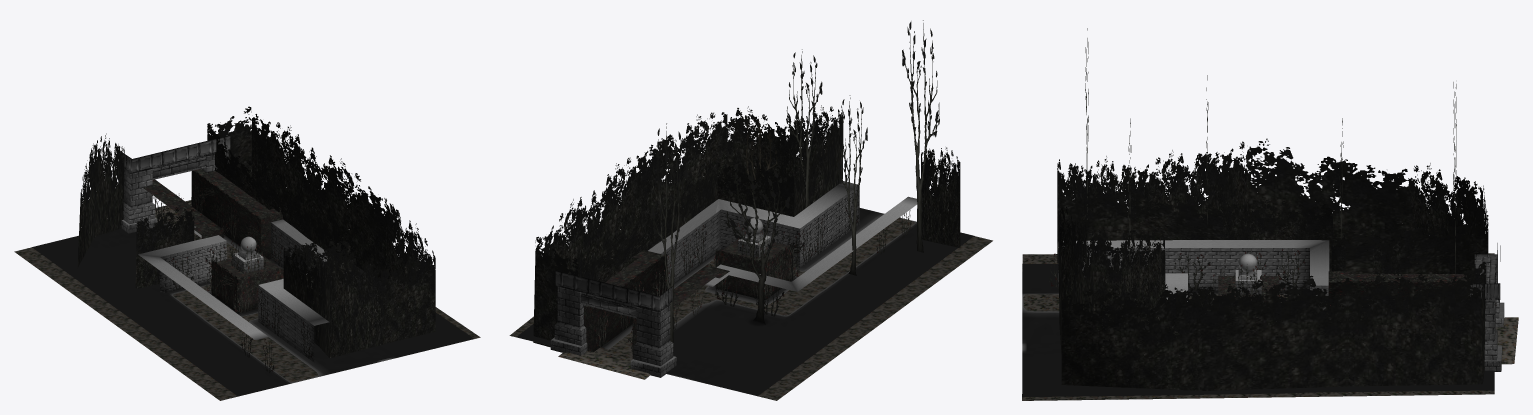
The model's file is hall_1.glb.
3 views of the same model, side by side, from view 1: azimuth 30°, elevation 25°; view 2: azimuth 150°, elevation 25°; view 3: azimuth 270°, elevation 25° (orthographic). The views are drawn at different scales.
Parts seen in each view (by area): view 1: hedge1, groundshadow2, groundshadow1, pCube136, polySurface25, pCube141, polySurface26 (×2), pCube142, rooftower_3, pCube137, pCube131, pCube148 (+1 smaller); view 2: hedge1, groundshadow2, groundshadow1, pCube136, rooftower_3, polySurface25, pPlane46__billboard, tree_29__billboard, pCube142, pPlane53__billboard, pCube131, pCube137 (+10 smaller); view 3: hedge1, groundshadow2, pCube137, groundshadow1, polySurface26, polySurface25, pCube141, SeemPatch, rooftower_4, rooftower_3, pCube148, pCube136.
Boxes of the visible parts, x1,y1,x2,y2 form: hedge1: (77,106,435,358); groundshadow2: (32,223,473,396); groundshadow1: (14,219,480,400); pCube136: (258,219,346,362); polySurface25: (191,170,282,259); pCube141: (138,226,226,293); polySurface26 (×2): (143,169,281,234); pCube142: (212,260,283,313); rooftower_3: (123,155,205,224); pCube137: (138,254,268,340); pCube131: (119,135,230,173); pCube148: (216,252,280,279); hedge1: (533,104,960,347); groundshadow2: (516,203,973,395); groundshadow1: (509,218,992,400); pCube136: (648,181,859,286); rooftower_3: (581,292,673,365); polySurface25: (584,254,666,352); pPlane46__billboard: (902,20,939,252); tree_29__billboard: (726,163,790,324); pCube142: (715,243,792,300); pPlane53__billboard: (650,123,687,353); pCube131: (555,271,672,311); pCube137: (792,196,917,291); hedge1: (1057,138,1488,390); groundshadow2: (1022,264,1494,397); pCube137: (1058,240,1327,290); groundshadow1: (1022,253,1494,400); polySurface26: (1328,271,1470,283); polySurface25: (1328,281,1473,304); pCube141: (1310,240,1329,310); SeemPatch: (1495,317,1518,364); rooftower_4: (1484,296,1497,360); rooftower_3: (1474,243,1499,318); pCube148: (1218,276,1278,299); pCube136: (1058,273,1187,301).
Size of the model in its own units: 92.37 by 75.44 by 131.
14 materials, 14 textured.
